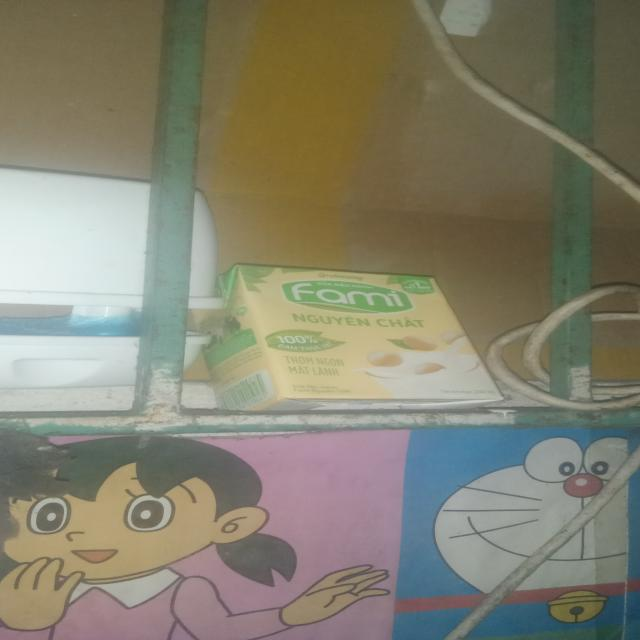Fami: (199, 266, 507, 410)
